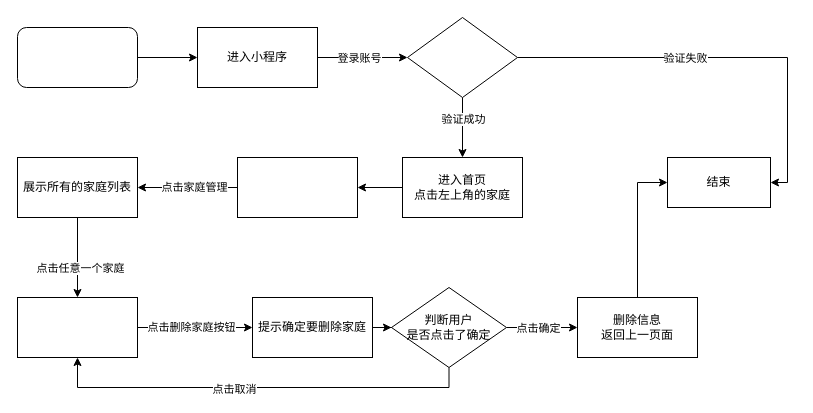
This 813x413 diagram has some shape labels left out. The shapes that lost their labels are listed below. From the top down, each one's centre as x and y in pixels, then its label:
At point 77,57: "打开app".
At point 462,57: "判断账号 密码是否正确".
At point 297,187: "进入家庭列表".
At point 77,327: "进入详情页面".
